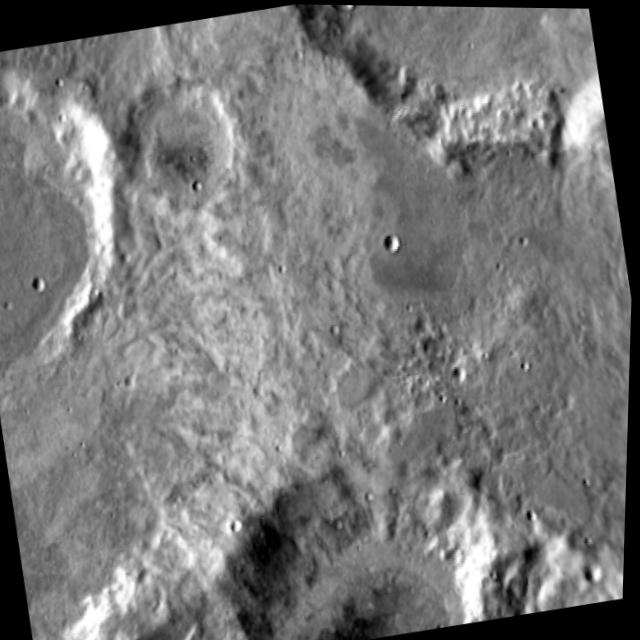Crater: (8, 372, 631, 640), (229, 3, 617, 232), (0, 32, 170, 413)
